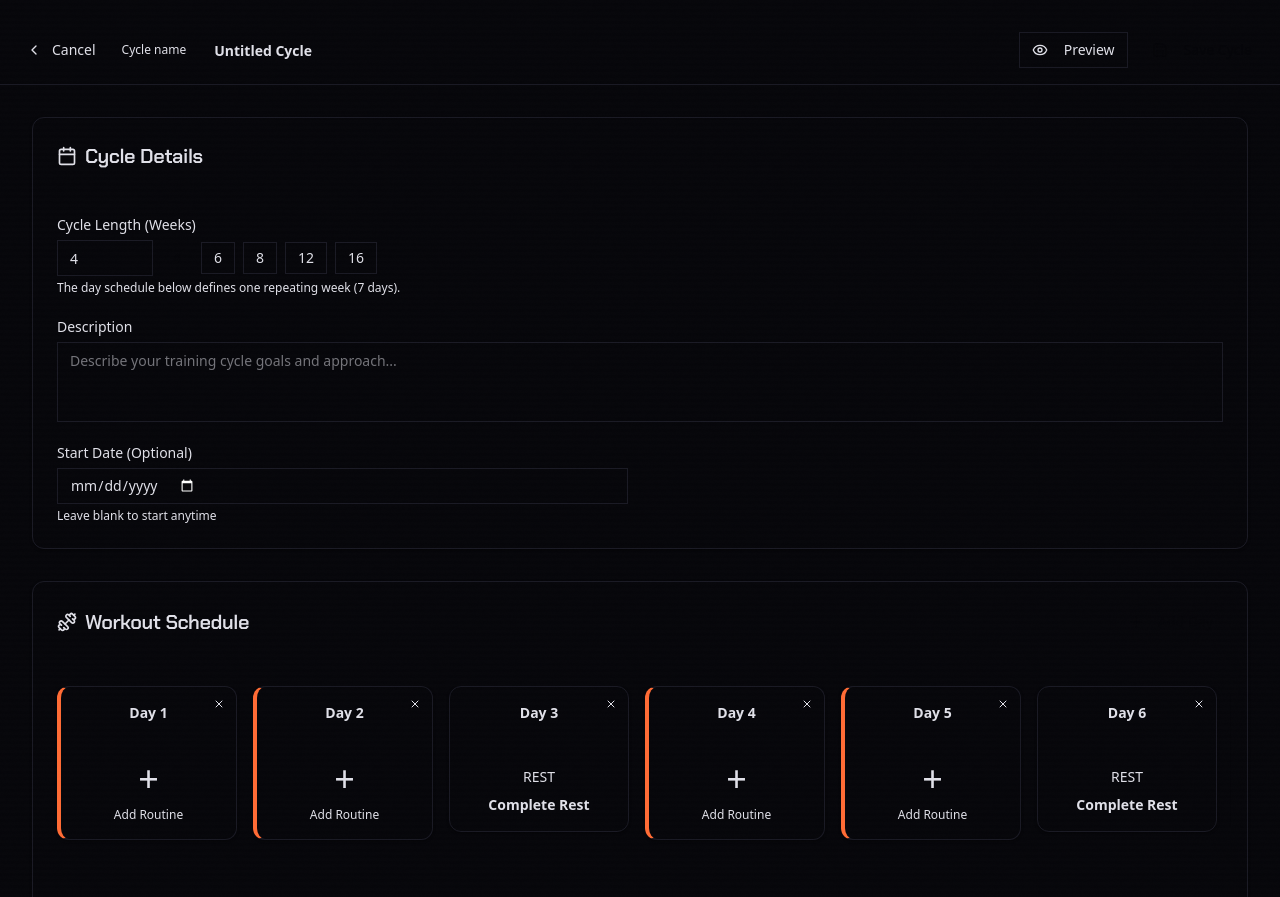
Test: CycleBuilder › shows unsaved indicator after editing the name
The width and height of the screenshot is (1280, 897).
Type " v2" into the field showing "Untitled Cycle" at (426, 50), box [202, 32, 650, 68]
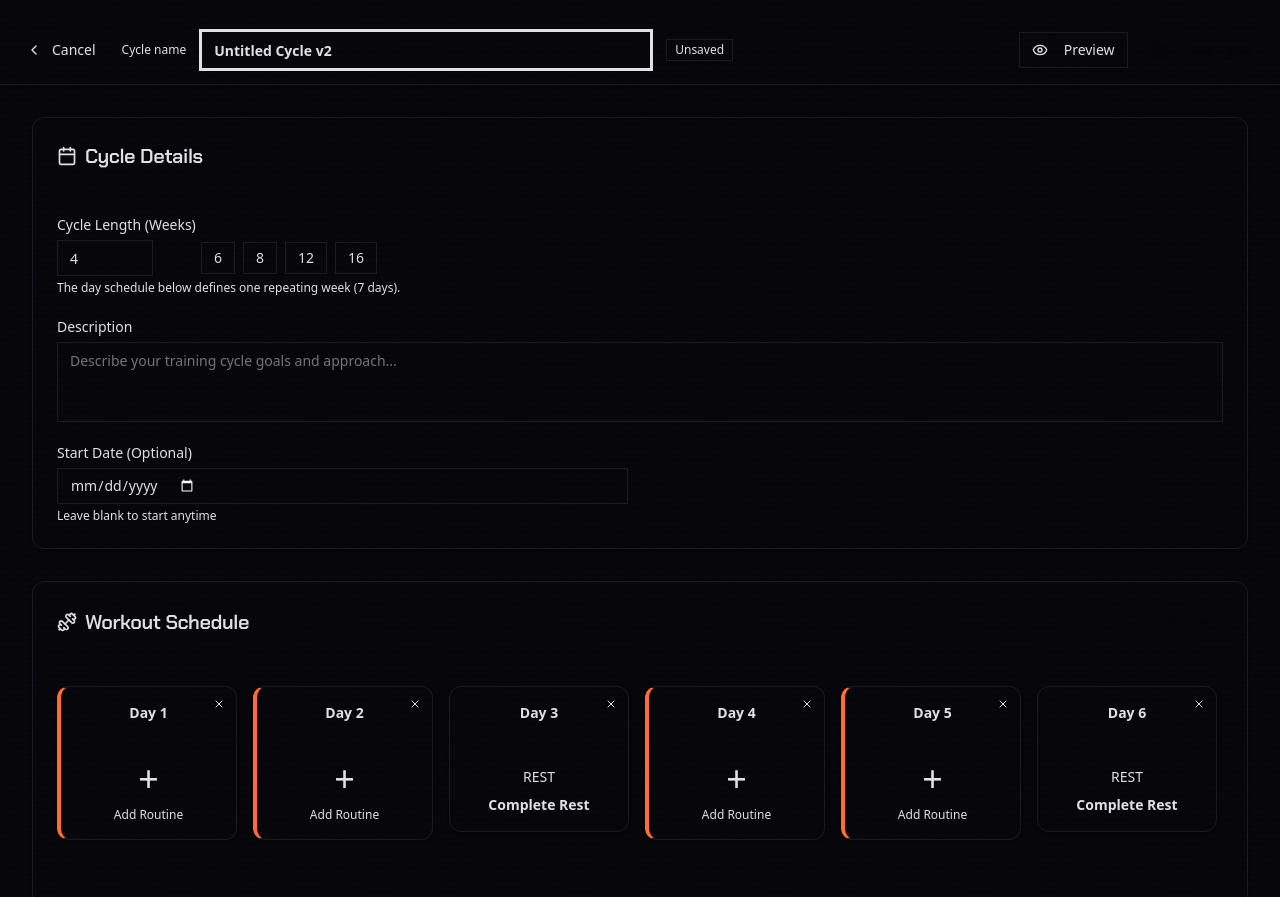
Check: the text "Unsaved" is shown, box [666, 39, 733, 61]
